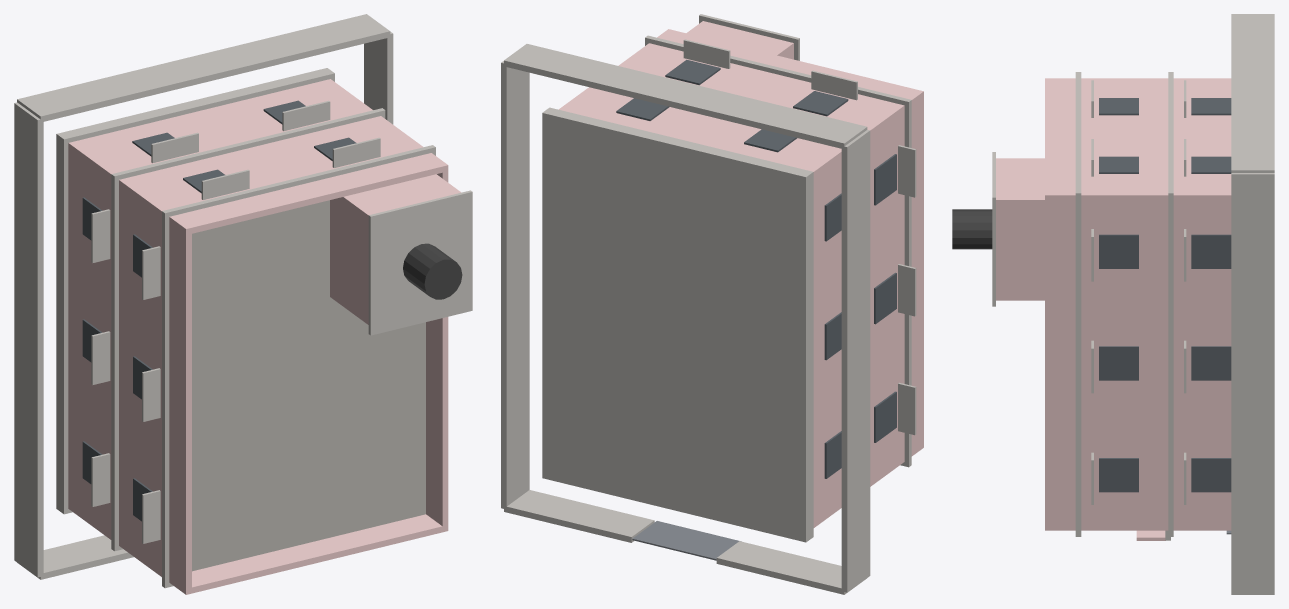
File: house_2f_pink.glb
3 views of the same model, side by side, from view 1: azimuth 30°, elevation 25°; view 2: azimuth 150°, elevation 25°; view 3: azimuth 270°, elevation 25° (orthographic). The views are drawn at different scales.
Visible parts, largest first — view 1: pink, concrete, roof, glass, tank; view 2: concrete, pink, glass, gate; view 3: pink, concrete, glass, tank.
Part boxes in pixels (bbox=[...]): pink: bbox=[68, 79, 461, 594]; concrete: bbox=[14, 14, 472, 588]; roof: bbox=[192, 200, 425, 571]; glass: bbox=[82, 100, 356, 521]; tank: bbox=[403, 243, 462, 299]; concrete: bbox=[501, 14, 916, 594]; pink: bbox=[559, 21, 923, 527]; glass: bbox=[616, 59, 896, 478]; gate: bbox=[632, 521, 741, 560]; pink: bbox=[996, 78, 1231, 540]; concrete: bbox=[992, 14, 1274, 594]; glass: bbox=[1099, 98, 1231, 492]; tank: bbox=[952, 209, 992, 249].
Size of the model in its own units: 12.2 by 15.2 by 10.45.
